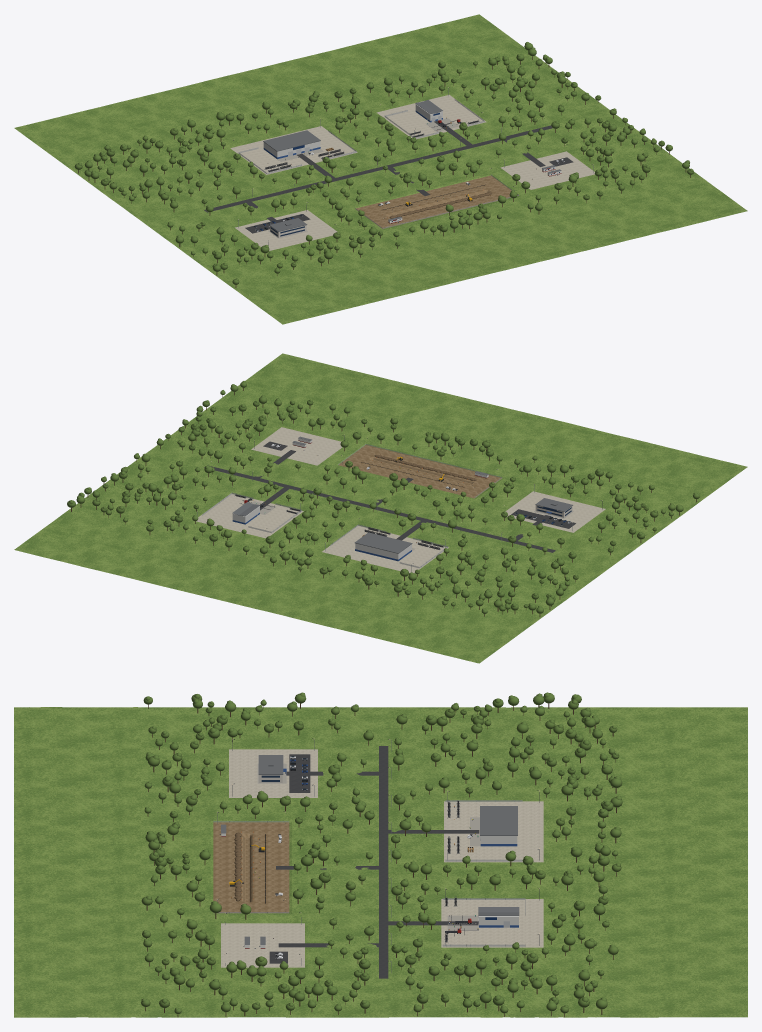
Rendered from world.glb.
3 renders of one model, top to bottom at view 1: azimuth 30°, elevation 25°; view 2: azimuth 150°, elevation 25°; view 3: azimuth 270°, elevation 25°, orthographic. The views are drawn at different scales.
Visible parts, largest first — view 1: Ground, Pad_field, Pad_fab, Pad_vendor, Pad_qc, Pad_office, Warehouse_VENDOR, Road_spine, FabShop, Office; view 2: Ground, Pad_field, Pad_vendor, Pad_fab, Pad_qc, Pad_office, Warehouse_VENDOR, Road_spine, Office, FabShop; view 3: Ground, Pad_field, Pad_vendor, Pad_fab, Pad_qc, Pad_office, Road_spine, Warehouse_VENDOR, FabShop, Office, Parking.
Boxes of the visible parts, x1,y1,x2,y2 form: Ground: (14, 14, 747, 324); Pad_field: (355, 175, 517, 228); Pad_fab: (376, 94, 486, 139); Pad_vendor: (230, 126, 357, 174); Pad_qc: (500, 151, 594, 189); Pad_office: (235, 210, 337, 250); Warehouse_VENDOR: (263, 130, 323, 161); Road_spine: (204, 125, 552, 212); FabShop: (415, 100, 458, 131); Office: (268, 218, 307, 238); Ground: (14, 353, 747, 663); Pad_field: (338, 445, 501, 498); Pad_vendor: (322, 525, 448, 573); Pad_fab: (196, 493, 303, 538); Pad_qc: (251, 427, 342, 465); Pad_office: (505, 491, 605, 532); Warehouse_VENDOR: (354, 532, 415, 561); Road_spine: (204, 465, 555, 552); Office: (534, 498, 573, 519); FabShop: (232, 501, 275, 524); Ground: (14, 707, 747, 1017); Pad_field: (213, 822, 289, 912); Pad_vendor: (444, 801, 543, 862); Pad_fab: (441, 899, 543, 947); Pad_qc: (221, 923, 304, 967); Pad_office: (229, 749, 317, 797); Road_spine: (379, 746, 388, 978); Warehouse_VENDOR: (470, 806, 517, 846); FabShop: (447, 907, 519, 930); Office: (257, 755, 286, 783); Parking: (289, 754, 310, 792).
Size of what is drawn, in the model's own units: 565 by 17.71 by 560.
Materials: 69 (11 with a texture image).
